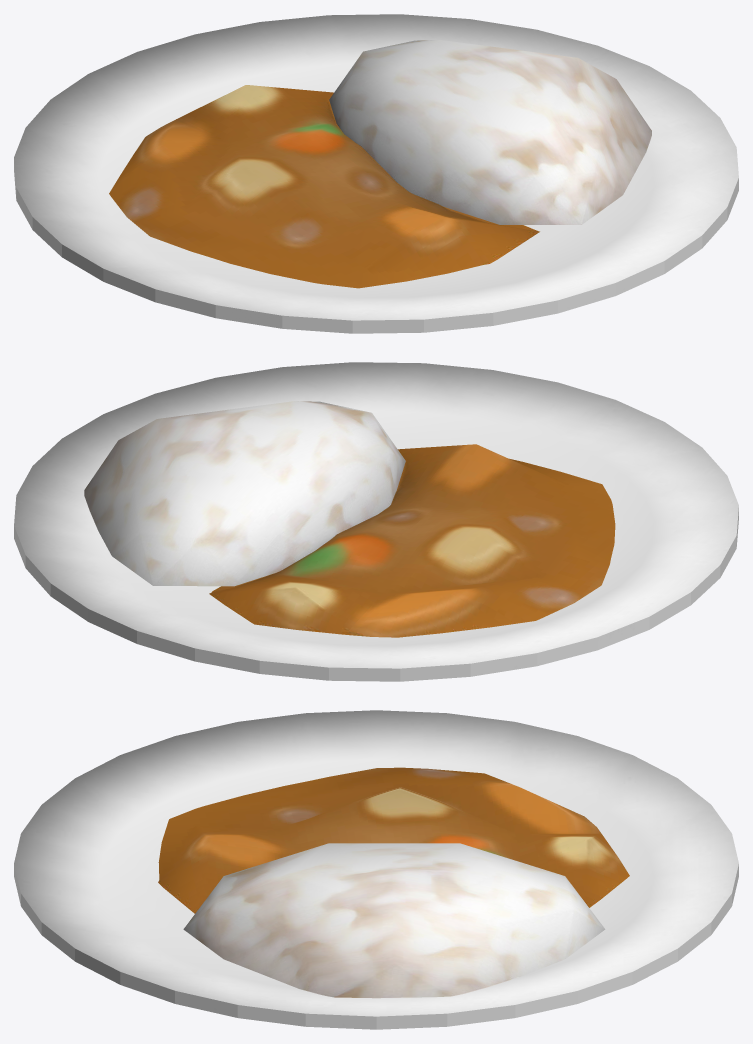
Rendered from curry.glb.
3 views of the same model, one above another, from view 1: azimuth 30°, elevation 25°; view 2: azimuth 150°, elevation 25°; view 3: azimuth 270°, elevation 25° (orthographic).
Visible parts, largest first — view 1: plate, curr, ric; view 2: plate, curr, ric; view 3: plate, ric, curr.
Part boxes in pixels (left/top/right/bottom): plate: left=14, top=14, right=738, bottom=333; curr: left=109, top=85, right=539, bottom=288; ric: left=329, top=40, right=651, bottom=224; plate: left=14, top=362, right=738, bottom=681; curr: left=209, top=444, right=615, bottom=637; ric: left=84, top=401, right=405, bottom=586; plate: left=14, top=710, right=738, bottom=1029; ric: left=183, top=843, right=605, bottom=998; curr: left=158, top=767, right=629, bottom=913.
Size of the model in its own units: 0.2331 by 0.0313 by 0.2331.
Materials: 3 (3 with a texture image).
